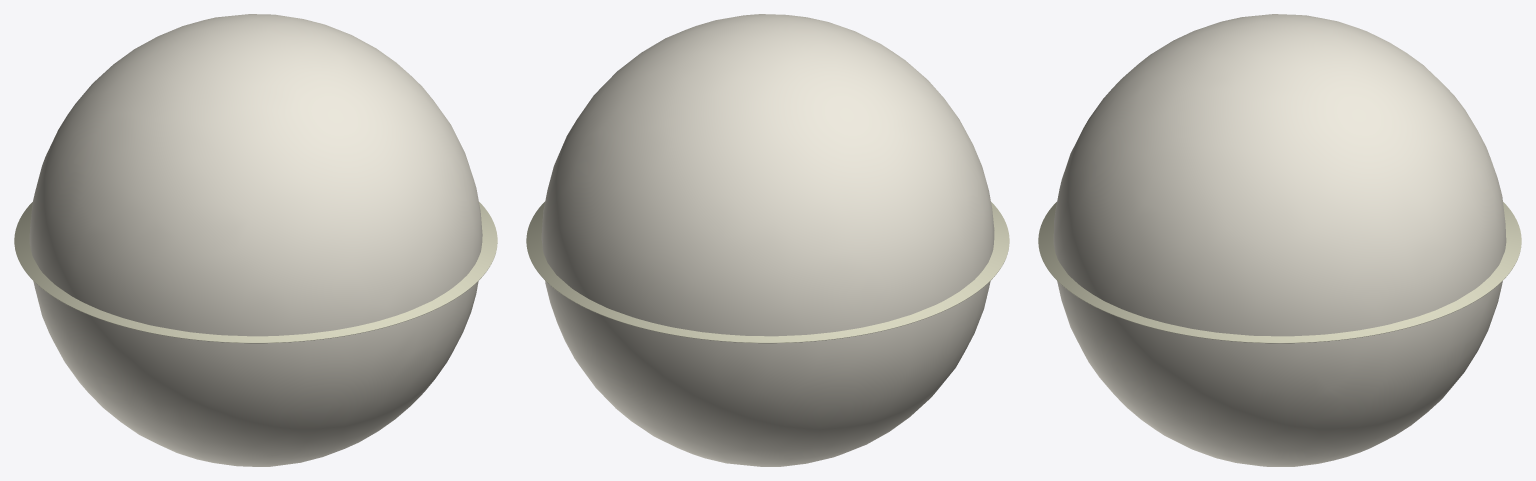
File: table-scene.glb
3 renders of one model, left to right at view 1: azimuth 30°, elevation 25°; view 2: azimuth 150°, elevation 25°; view 3: azimuth 270°, elevation 25°, orthographic.
Visible parts, largest first — view 1: Continuous cyclorama dome, Studio floor; view 2: Continuous cyclorama dome, Studio floor; view 3: Continuous cyclorama dome, Studio floor.
Part boxes in pixels (left/top/right/bottom): Continuous cyclorama dome: left=29, top=14, right=482, bottom=466; Studio floor: left=14, top=202, right=497, bottom=343; Continuous cyclorama dome: left=541, top=14, right=994, bottom=466; Studio floor: left=526, top=201, right=1009, bottom=343; Continuous cyclorama dome: left=1053, top=14, right=1506, bottom=466; Studio floor: left=1038, top=202, right=1521, bottom=343.
Bounding box in the file's own units: 64 × 60 × 64.
